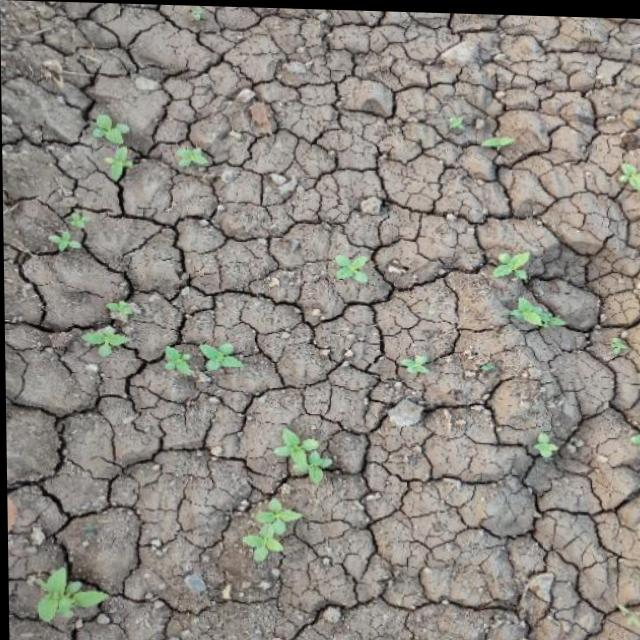crop: (26, 560, 110, 627), (268, 426, 338, 488), (505, 291, 566, 333), (75, 321, 135, 363), (42, 211, 89, 261), (323, 248, 385, 284), (250, 490, 300, 534), (236, 524, 281, 566), (488, 243, 537, 281), (154, 339, 195, 379), (102, 288, 146, 323), (88, 114, 135, 146), (199, 338, 242, 372), (169, 133, 207, 170), (528, 420, 558, 463), (479, 125, 519, 157), (612, 148, 640, 192), (98, 146, 135, 179), (395, 347, 432, 376)
